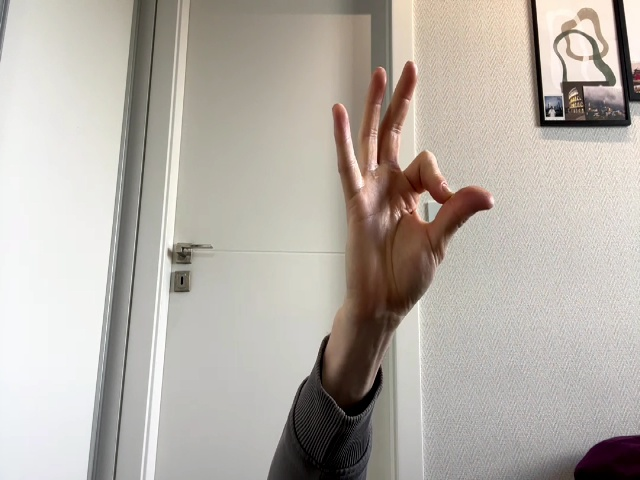S: (333, 61, 494, 328)
